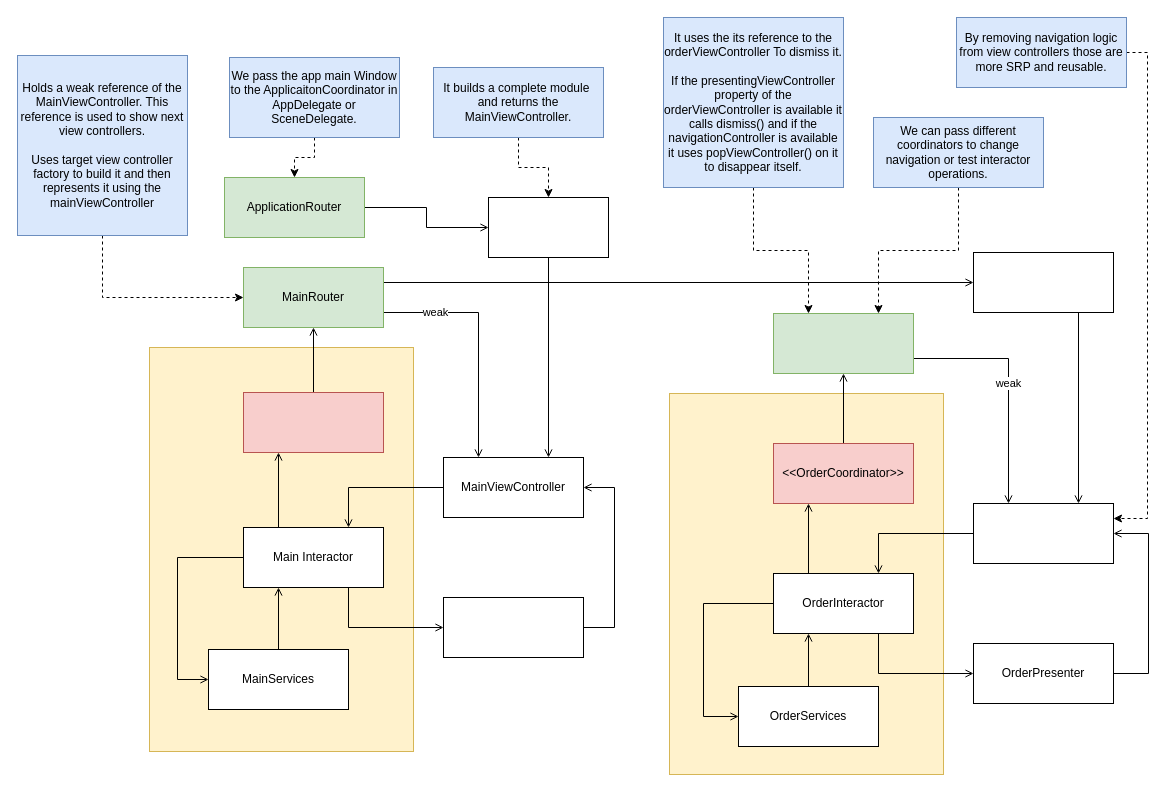
This 1174x792 diagram has some shape labels left out. Here are the shapes that lost their labels. From the top down, the box of each, then its label:
(488, 196, 608, 258): MainFactory
(972, 252, 1114, 312): OrderFactory
(772, 312, 914, 374): OrderRouter
(242, 392, 384, 452): <<MainRouter>>
(148, 346, 414, 752): MainPackage
(972, 502, 1114, 564): OrderViewController
(668, 392, 944, 774): OrderPackage
(442, 596, 584, 658): MainPresenter
